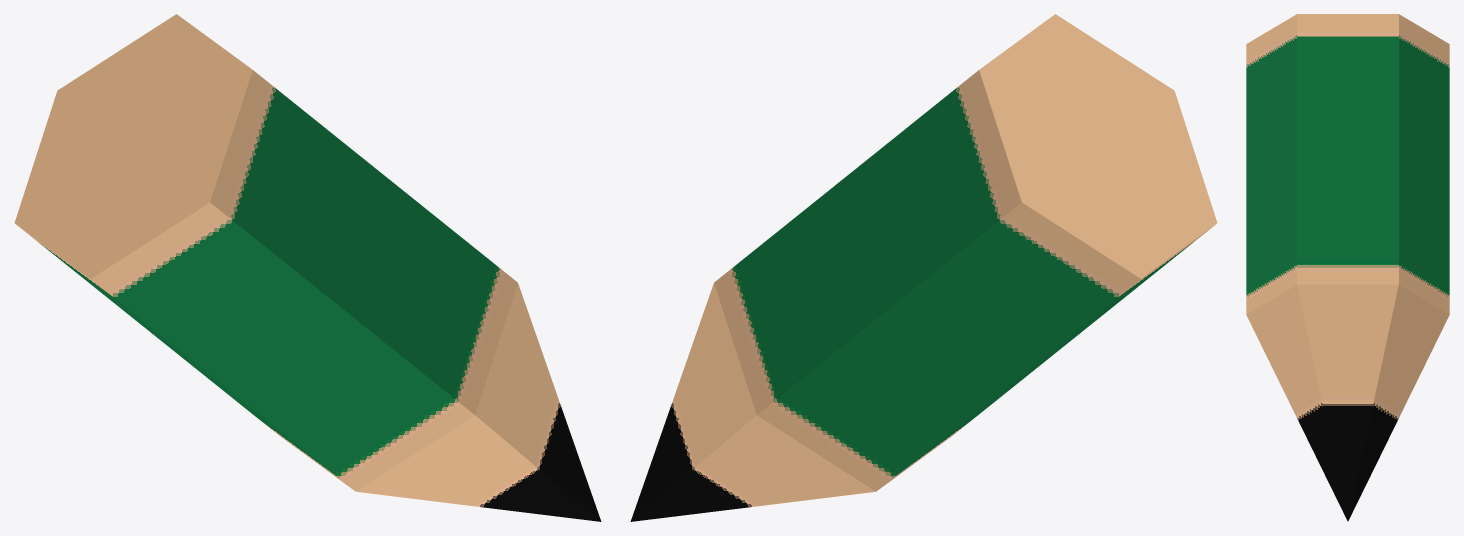
File: ps2_save-icons_thetokudane.glb
3 views of the same model, side by side, from view 1: azimuth 30°, elevation 25°; view 2: azimuth 150°, elevation 25°; view 3: azimuth 270°, elevation 25° (orthographic). The views are drawn at different scales.
Visible parts, largest first — view 1: TD.ico; view 2: TD.ico; view 3: TD.ico.
Part boxes in pixels (box(x1,y1,x2,y2)): TD.ico: box(14, 14, 601, 521); TD.ico: box(630, 14, 1217, 521); TD.ico: box(1246, 14, 1449, 521).
Bounding box in the file's own units: 3.68 × 3.69 × 1.78.
1 material, 1 textured.
